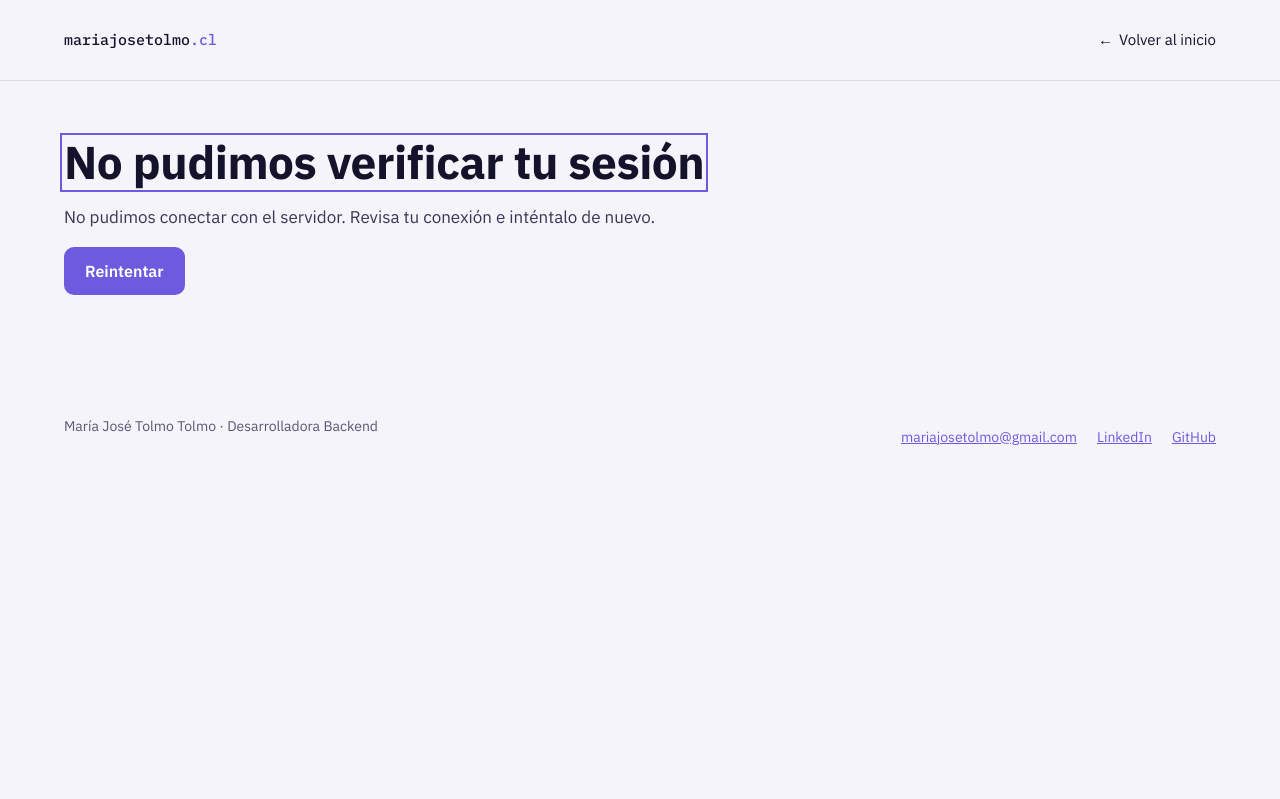
Test: RecruiterZone session guard › does not redirect on a network error: offers "Reintentar", then recovers
Step 1. Click the button "Reintentar" → (124, 271), box left=64, top=247, right=185, bottom=295
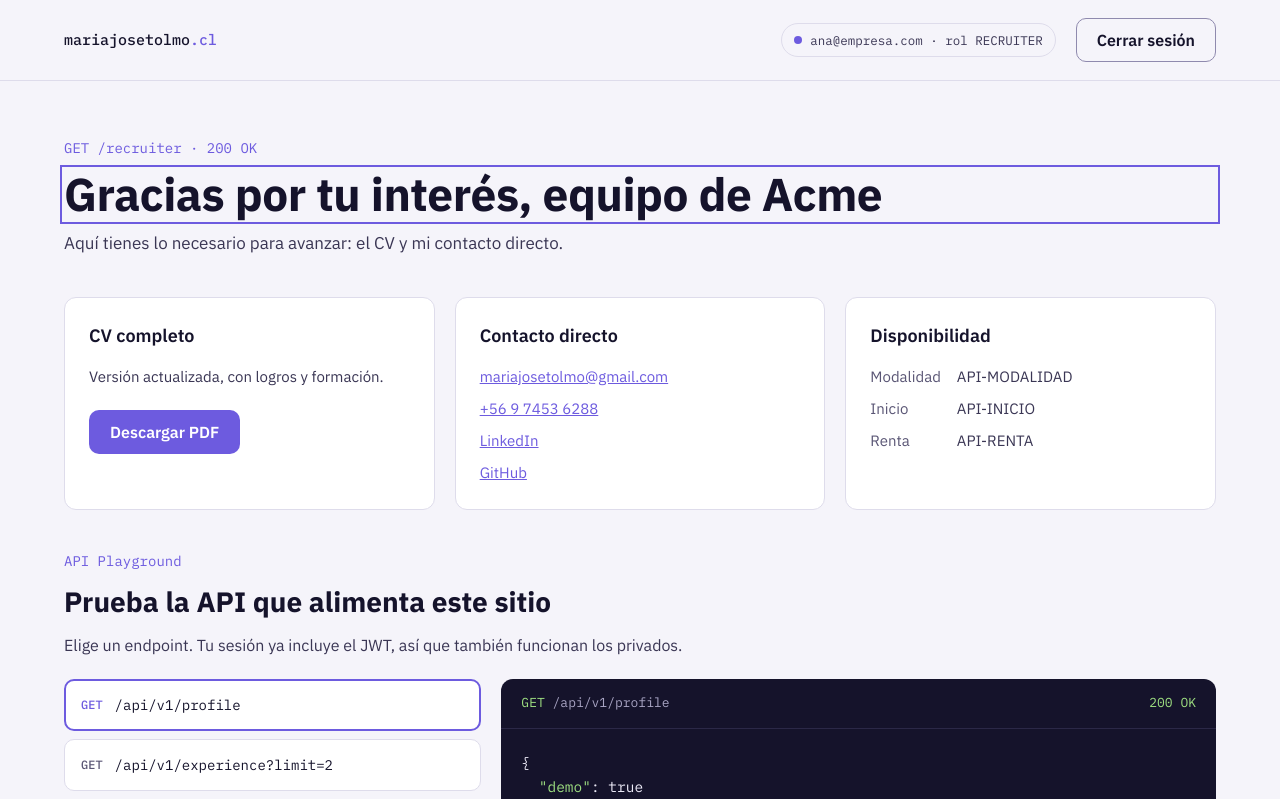
Result: the heading "Gracias por tu interés, equipo de Acme" is shown at left=64, top=164, right=882, bottom=224
